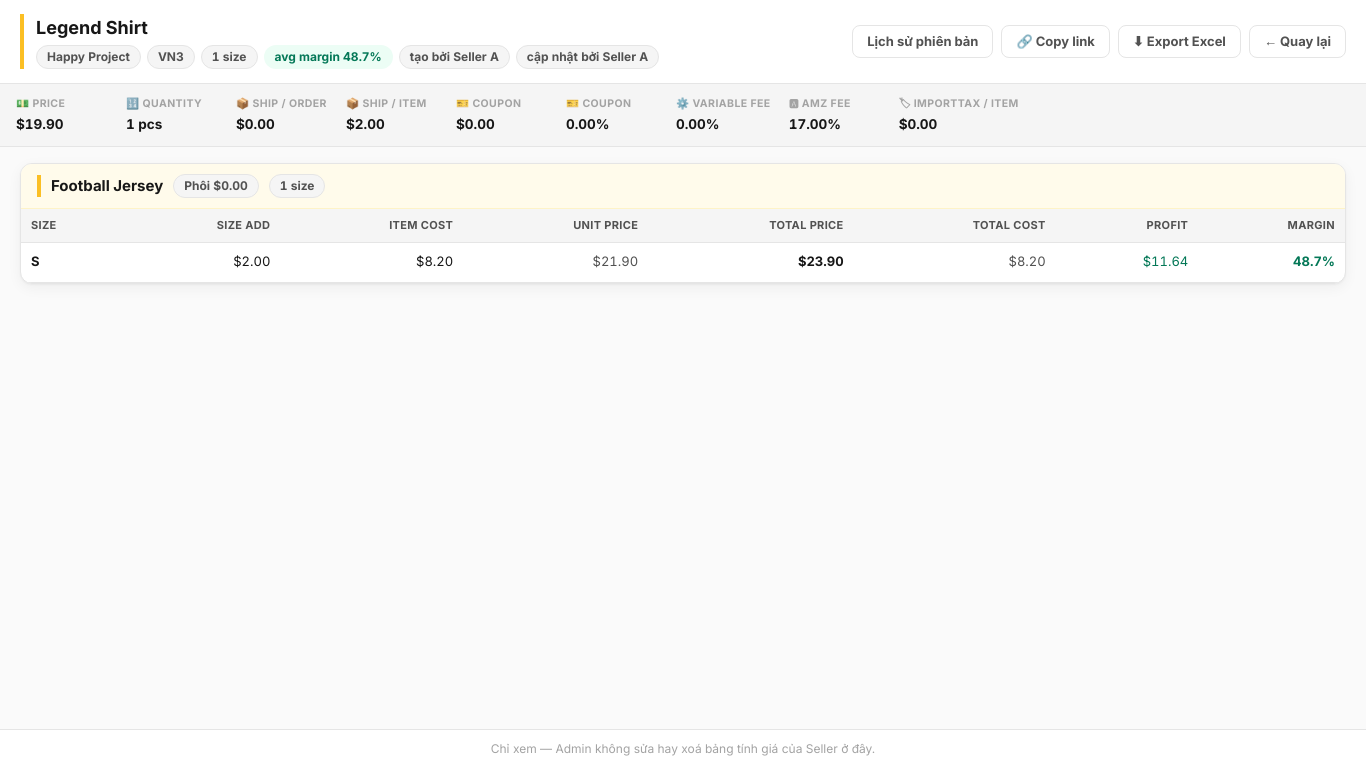
Test case: Admin — chỉ xem, không có đường sửa/xoá › Lịch sử phiên bản mở được nhưng không có nút Khôi phục
The width and height of the screenshot is (1366, 768).
Step 1. Click the button "Lịch sử phiên bản" → [923, 42], box [852,25,993,58]
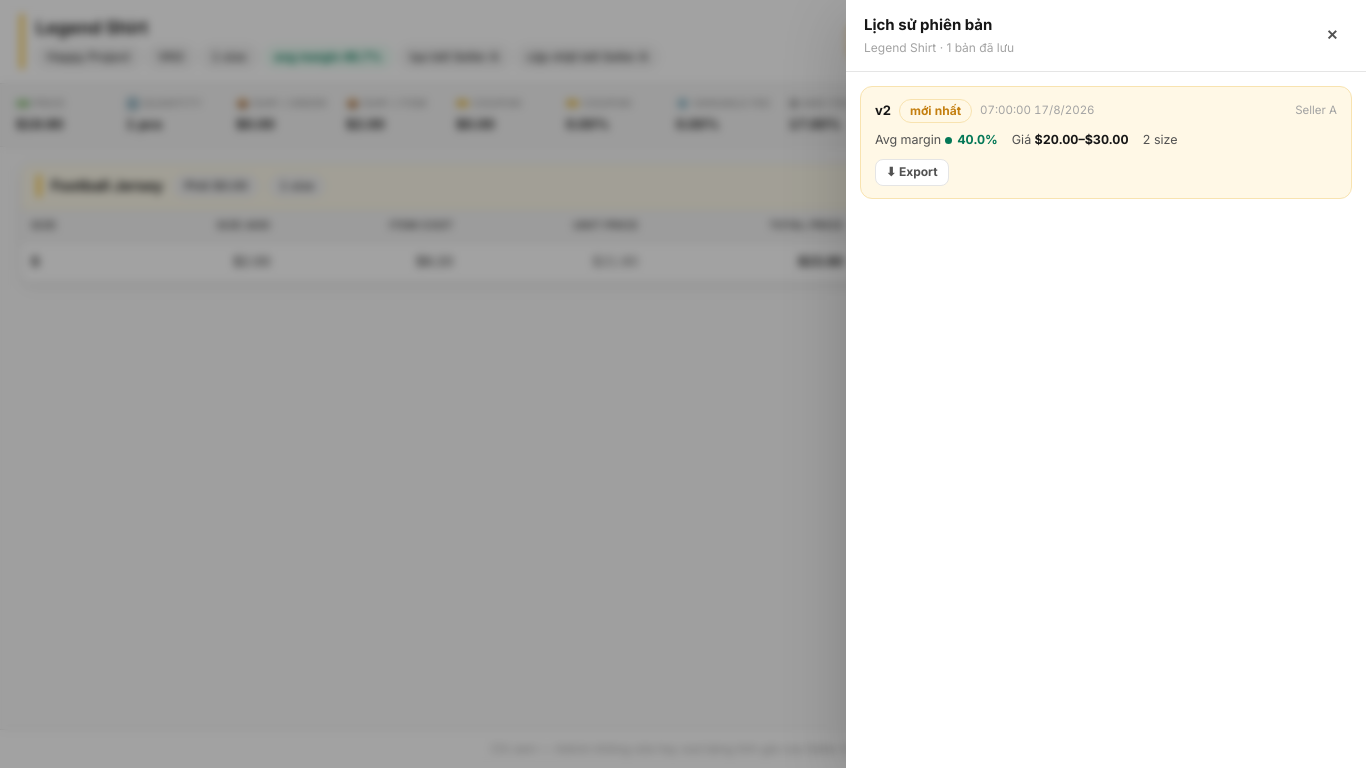
Check: the text "v2" is shown, box [875,101,891,120]
